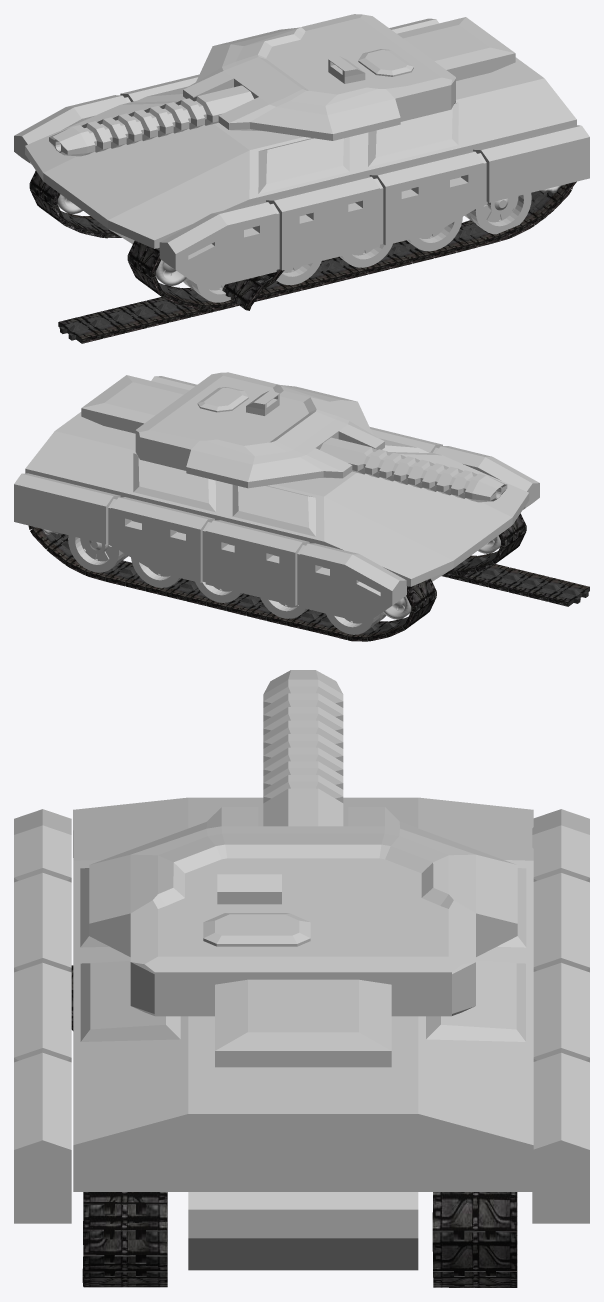
Rendered from bot42.fbx.
The picture shows the model from 3 angles, top to bottom: view 1: azimuth 30°, elevation 25°; view 2: azimuth 150°, elevation 25°; view 3: azimuth 270°, elevation 25°; orthographic projection. The views are drawn at different scales.
Visible parts, largest first — view 1: Body, Woll.001, Tow, trak.003, Gun, trak.002, Woll.002, Cylinder.004, trak.000, Cylinder.003, Cylinder.002, Cylinder.001 (+2 smaller); view 2: Body, Woll.002, Tow, trak.000, Gun, trak.003, Woll.001, trak.002, Cylinder.009, Cylinder.010, Cylinder.013, Cylinder.012 (+2 smaller); view 3: Body, Tow, Woll.001, Woll.002, Gun, trak.000, trak.003, trak.002.
Boxes of the visible parts, x1,y1,x2,y2 form: Body: (25,57,576,248); Woll.001: (159,125,589,290); Tow: (183,14,515,140); trak.003: (58,181,576,343); Gun: (49,85,253,156); trak.002: (127,183,572,309); Woll.002: (14,18,438,164); Cylinder.004: (464,193,531,234); trak.000: (29,170,121,238); Cylinder.003: (407,217,462,251); Cylinder.002: (340,243,392,267); Cylinder.001: (276,261,321,285); Body: (25,412,529,586); Woll.002: (14,473,406,624); Tow: (81,372,384,488); trak.000: (28,525,436,641); Gun: (320,437,507,502); trak.003: (442,564,589,606); Woll.001: (151,376,539,509); trak.002: (444,513,526,575); Cylinder.009: (68,535,128,572); Cylinder.010: (131,557,180,587); Cylinder.013: (326,612,386,634); Cylinder.012: (260,597,307,618); Body: (73,797,533,1270); Tow: (89,807,517,1067); Woll.001: (14,809,71,1223); Woll.002: (532,809,589,1223); Gun: (263,670,343,826); trak.000: (432,1192,517,1287); trak.003: (71,965,167,1286); trak.002: (83,1192,167,1287).
Size of the model in its own units: 1818 by 586 by 1001.
